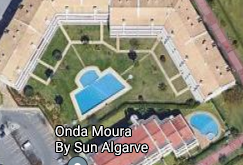pool: (75, 76, 121, 102), (189, 112, 221, 139)
